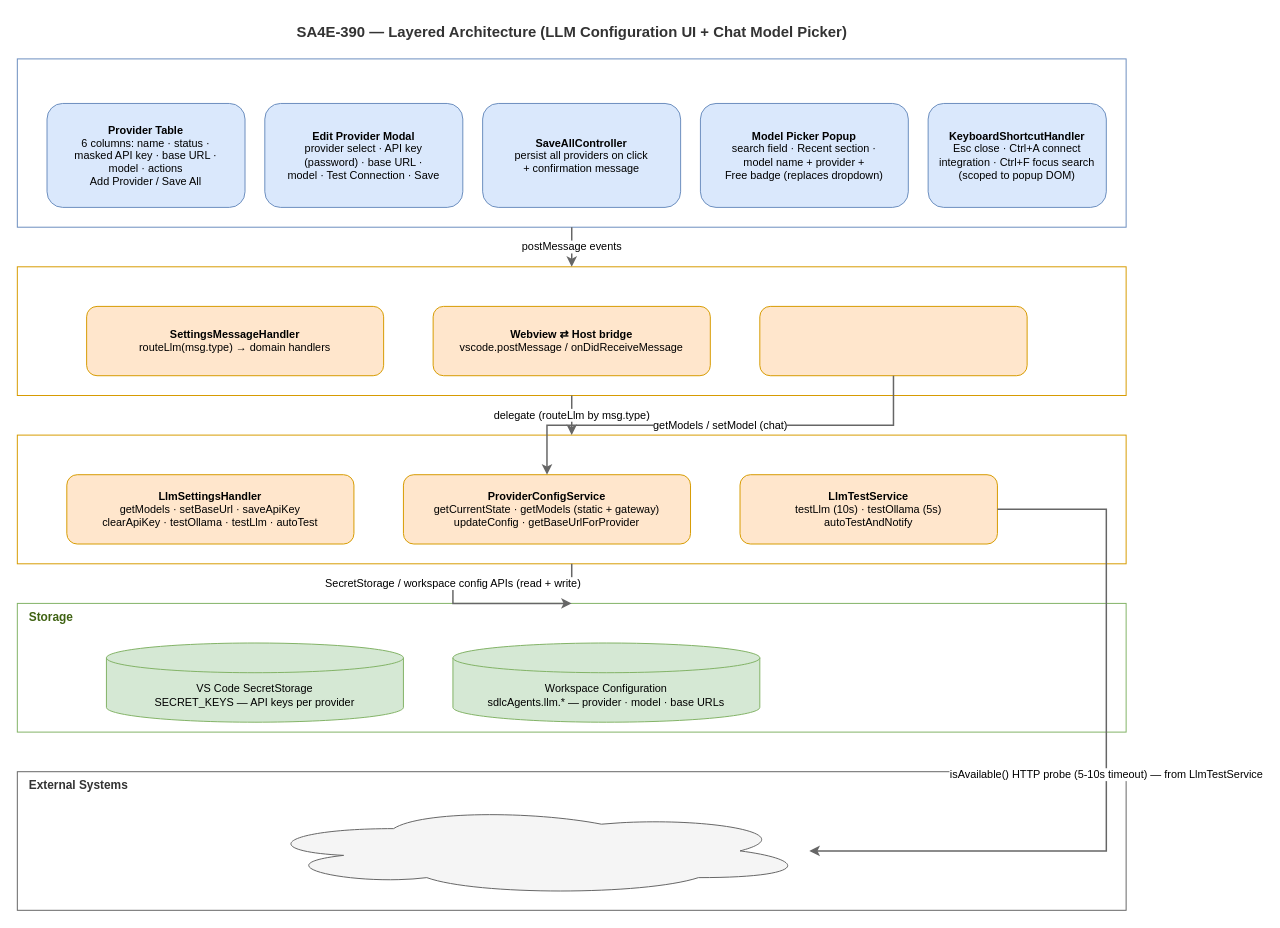
Some shapes in this 1280 by 928 pixel diagram are drawn without their labels. Each missing label, with the box of its shape:
Chat Panel Provider model-config.ts · chat-model picker events: (759, 305, 1027, 376)
LLM Providers: anthropic · openai · lmstudio · openrouter · ollama: (254, 805, 809, 895)
Message Handling: (16, 266, 1126, 396)
Presentation — Webview UI: (16, 58, 1126, 227)
Services: (16, 434, 1126, 564)
